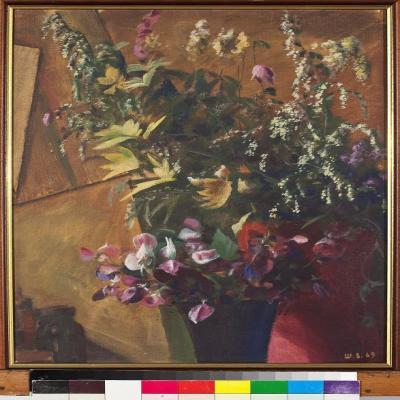painting: (0, 0, 400, 373)
